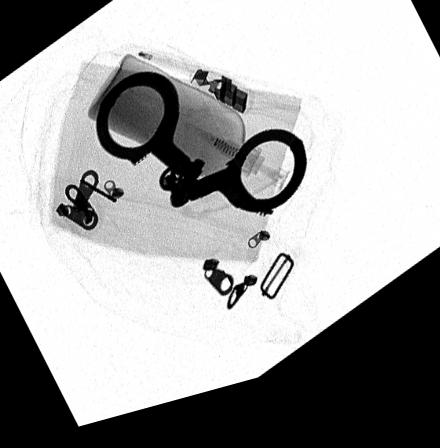HandCuffs: (96, 80, 307, 231)
